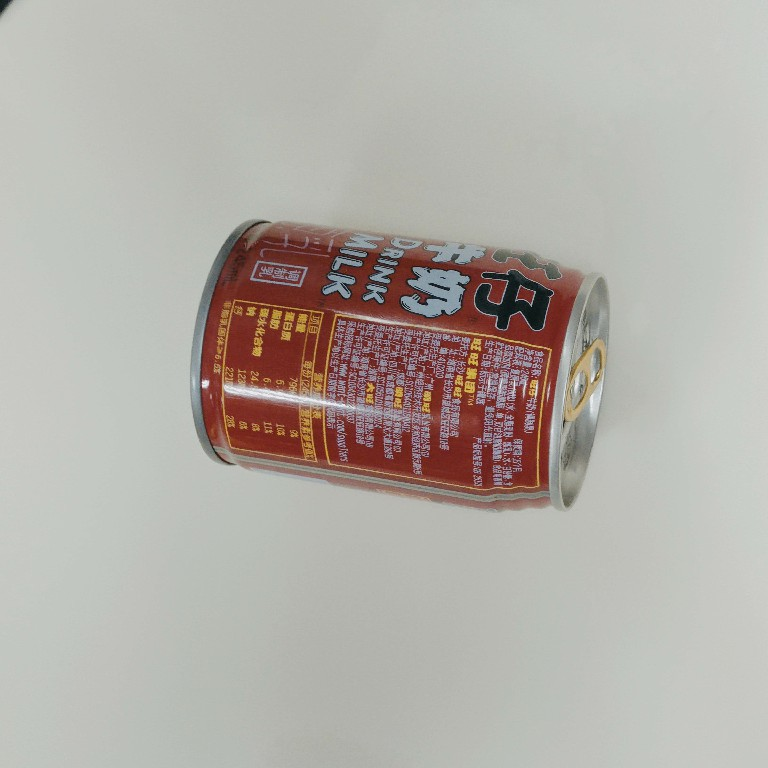can: (182, 213, 612, 517)
